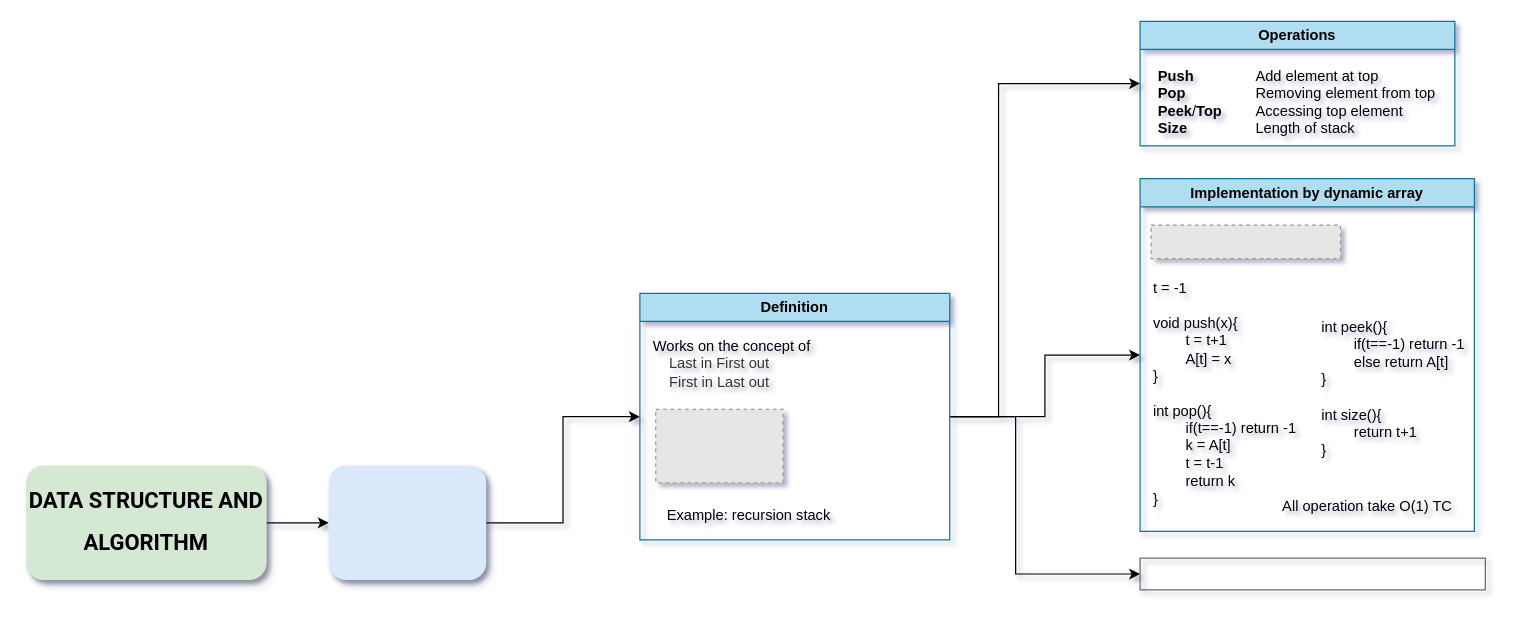
Some shapes in this 1514 by 619 pixel diagram are drawn without their labels. Grey dashed boxes stand in for pictures. Here are the shapes that lost their labels. From the top down, the centre of each, then its label:
point 408,524: Stacks
point 1312,573: Other way of implementation is by using linked list
